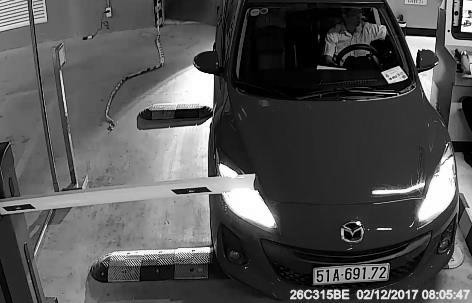License-plate: (311, 258, 393, 292)
